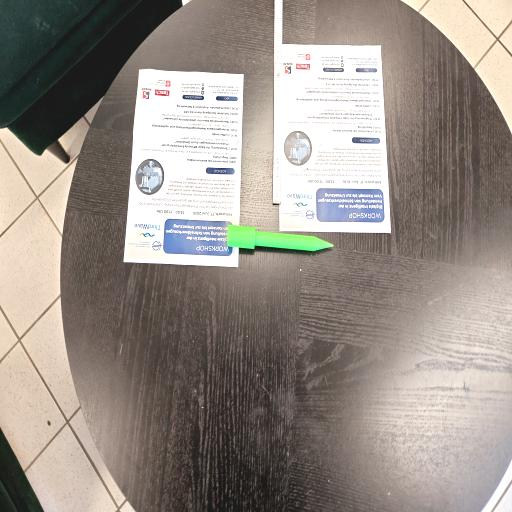Probe-Detection: (227, 225, 333, 251)
